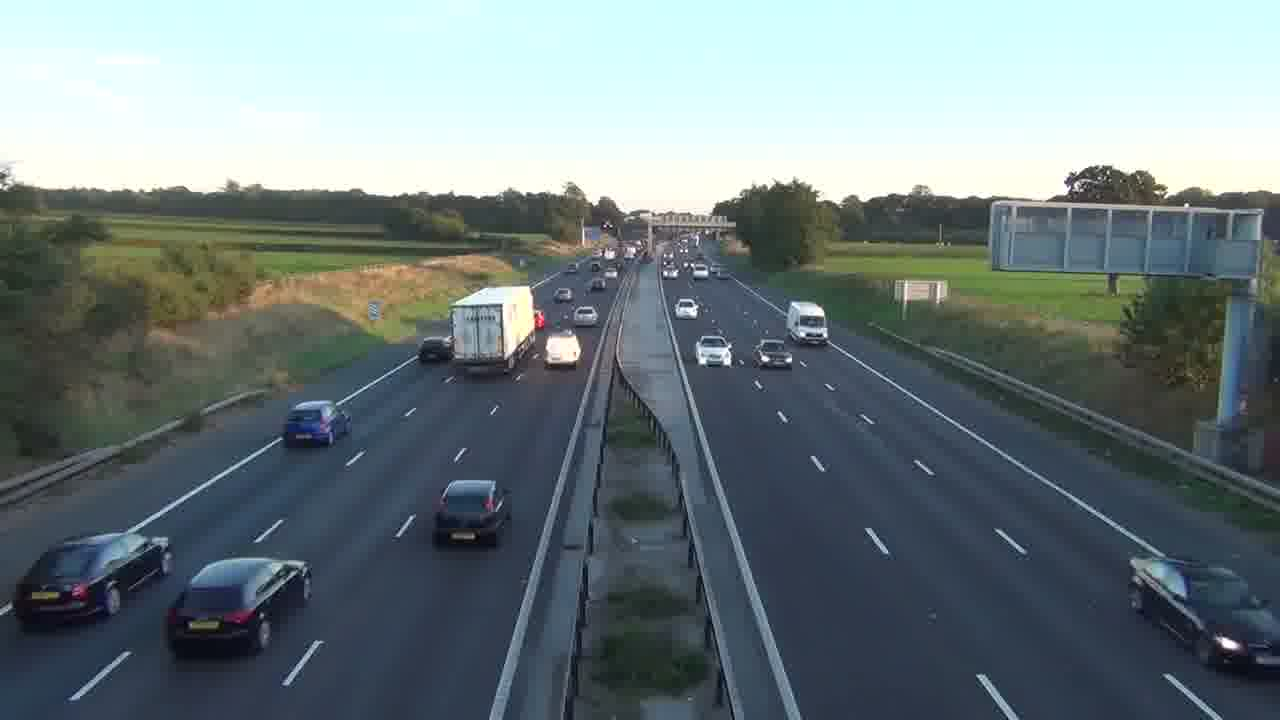car: (432, 479, 513, 546), (283, 399, 351, 448), (695, 335, 733, 367), (755, 338, 793, 369), (416, 336, 452, 362), (573, 303, 599, 326)
truck: (1127, 554, 1280, 673), (13, 529, 176, 629), (166, 556, 313, 656), (449, 285, 535, 375), (785, 300, 830, 346), (544, 331, 582, 370)
